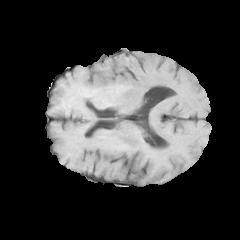glioma: (68, 57, 183, 122)
